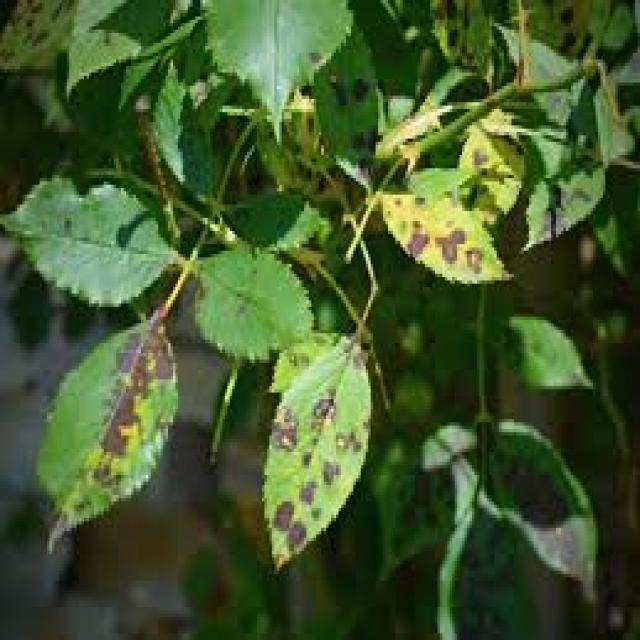black-spot: (67, 325, 243, 573), (262, 389, 404, 606), (371, 193, 514, 330)
